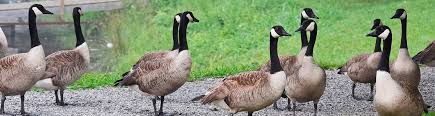goose: (190, 25, 292, 116), (133, 11, 199, 116), (1, 3, 55, 116), (365, 24, 431, 116), (113, 10, 185, 88), (43, 6, 91, 106), (279, 20, 326, 115), (335, 18, 384, 102), (258, 7, 319, 72), (390, 7, 421, 92)
